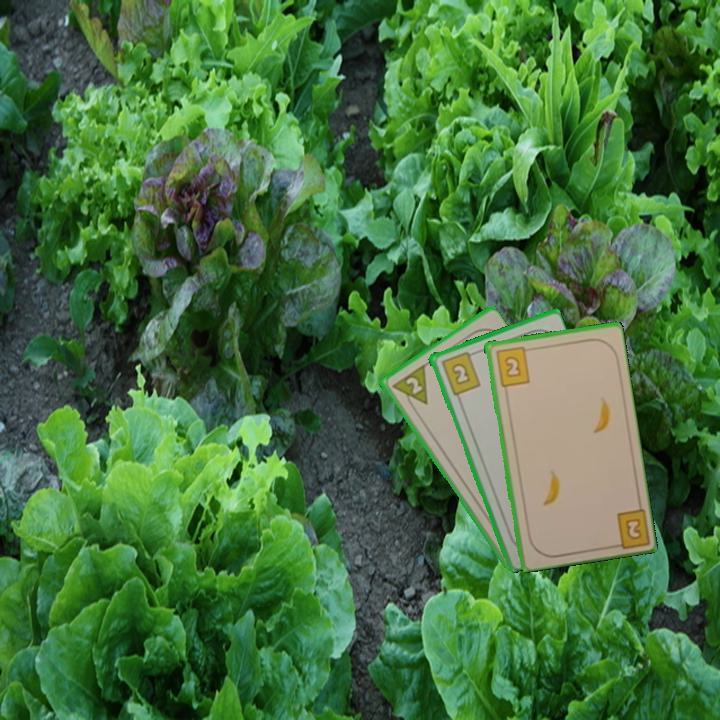2b: (437, 348, 483, 398), (606, 504, 651, 551), (492, 343, 534, 389)
2p: (402, 373, 425, 397)
